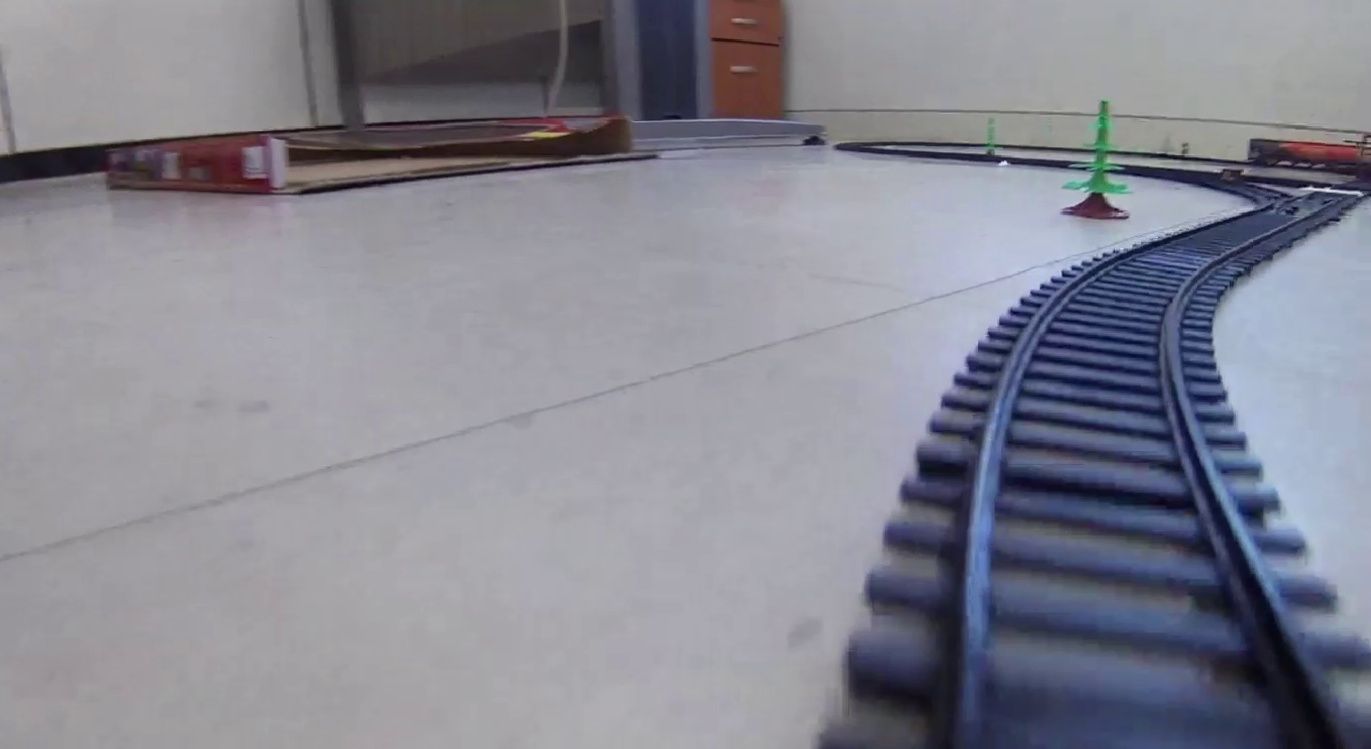tree: (1060, 99, 1127, 223)
